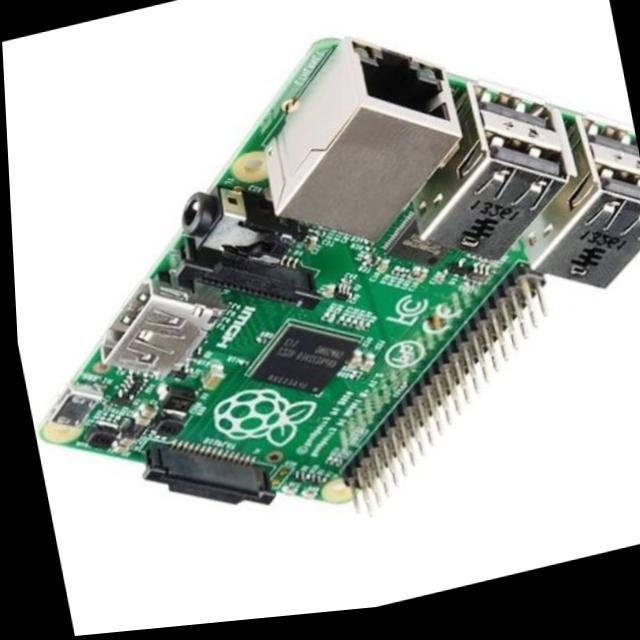Raspberry Pi 3 B-: (42, 39, 640, 504), (43, 40, 640, 504)
